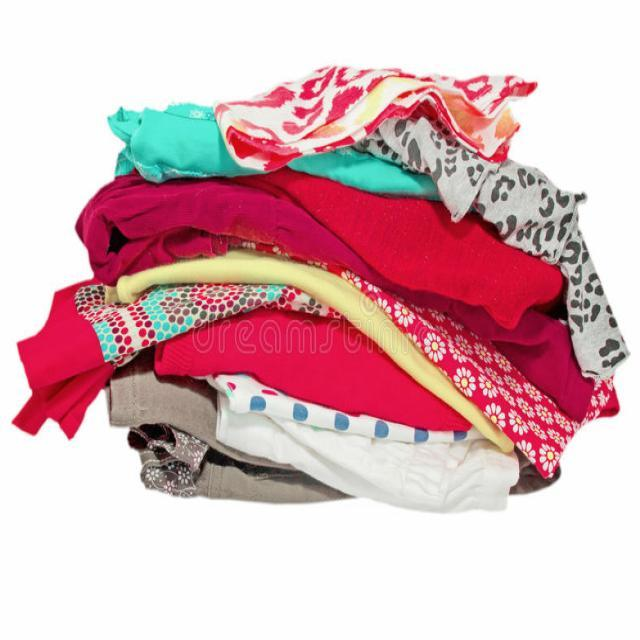clothes: (42, 70, 628, 521)
